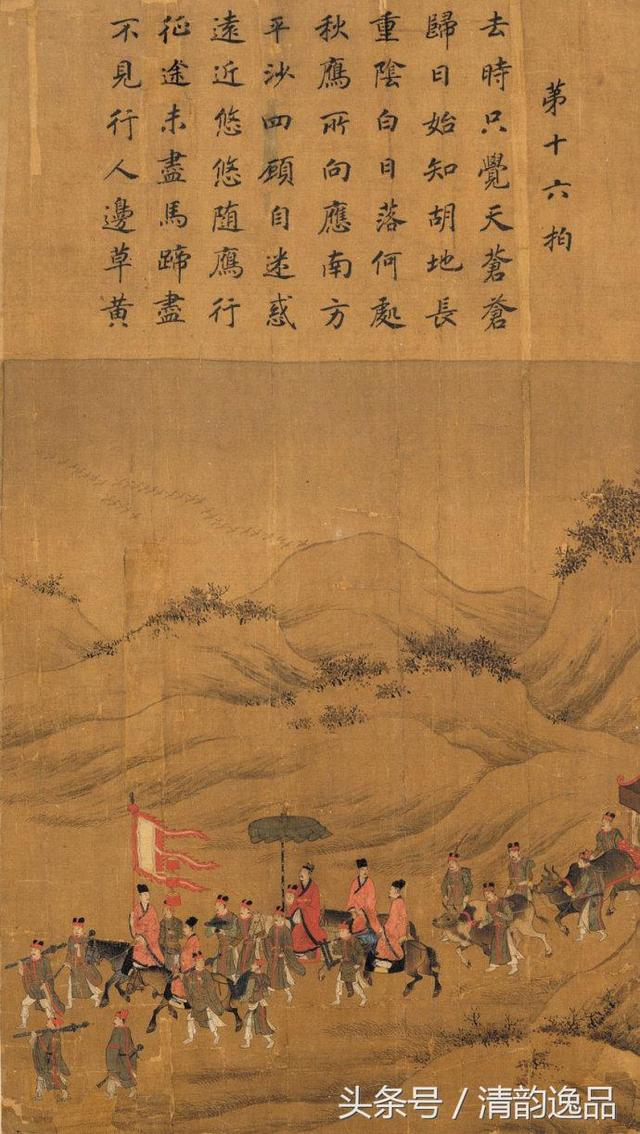cow: (532, 846, 640, 938), (431, 908, 551, 968)
flag: (120, 793, 218, 895)
grass: (239, 650, 411, 733), (137, 585, 279, 626), (388, 629, 512, 673), (542, 1002, 640, 1052), (570, 483, 636, 556), (174, 1095, 332, 1115), (20, 571, 86, 612), (402, 1026, 525, 1047), (73, 626, 132, 665), (174, 1066, 278, 1084)
hill: (5, 458, 640, 789)
horse: (133, 967, 253, 1042), (78, 929, 167, 1005), (337, 940, 440, 998), (318, 905, 421, 937), (247, 908, 279, 934)
man: (7, 932, 68, 1026), (177, 950, 233, 1047), (29, 1021, 81, 1114), (474, 878, 519, 973), (211, 890, 255, 980), (566, 854, 611, 939), (286, 859, 322, 965), (165, 913, 204, 1007), (265, 900, 301, 998), (64, 914, 101, 1008), (245, 957, 278, 1055), (129, 881, 163, 968), (432, 842, 471, 913), (346, 853, 377, 942), (379, 875, 411, 960), (334, 921, 364, 998), (500, 839, 536, 898), (158, 896, 182, 961), (589, 810, 621, 858)
weapon: (4, 938, 66, 973), (9, 1018, 91, 1042)
